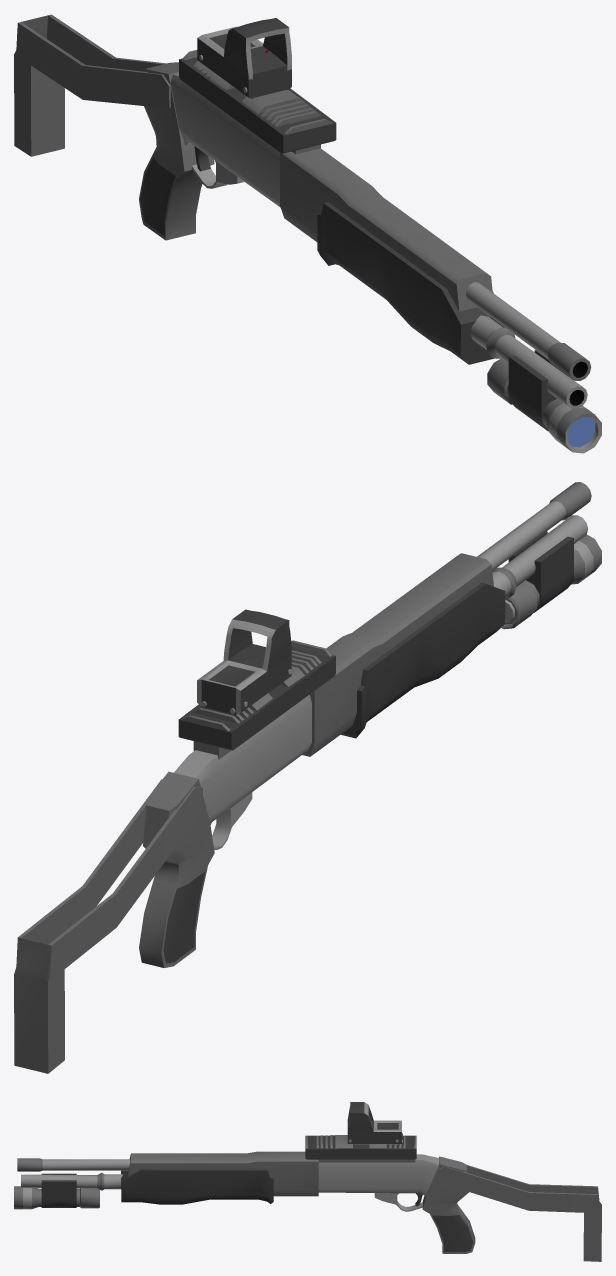
The model's file is 25-Optic-combat-shotgun.glb.
3 renders of one model, top to bottom at view 1: azimuth 30°, elevation 25°; view 2: azimuth 150°, elevation 25°; view 3: azimuth 270°, elevation 25°, orthographic. The views are drawn at different scales.
Visible parts, largest first — view 1: Optic combat shotgun; view 2: Optic combat shotgun; view 3: Optic combat shotgun.
Part boxes in pixels (left/top/right/bottom): Optic combat shotgun: left=14, top=14, right=601, bottom=453; Optic combat shotgun: left=14, top=482, right=601, bottom=1073; Optic combat shotgun: left=14, top=1102, right=601, bottom=1261.
Bounding box in the file's own units: 0.0625 × 0.3189 × 1.13.
Materials: 1 (1 with a texture image).
